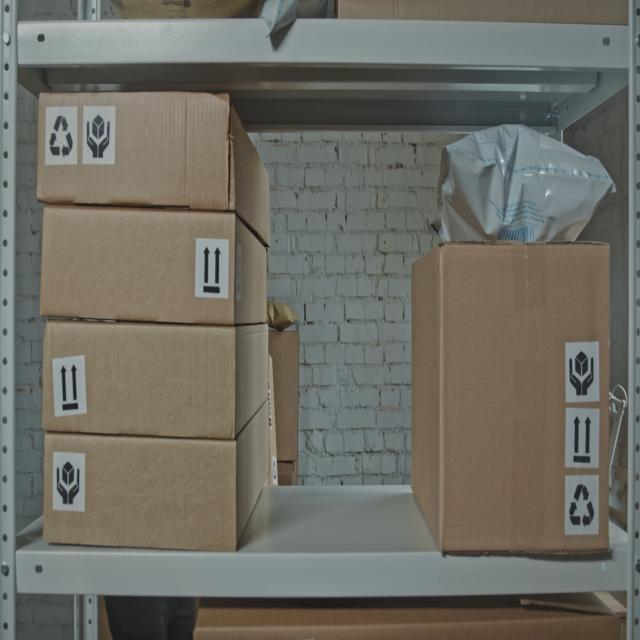counting-the-number-of-boxes: (410, 235, 611, 547), (37, 93, 271, 244), (43, 399, 270, 552), (43, 318, 269, 438), (41, 205, 268, 322), (268, 331, 298, 486)
